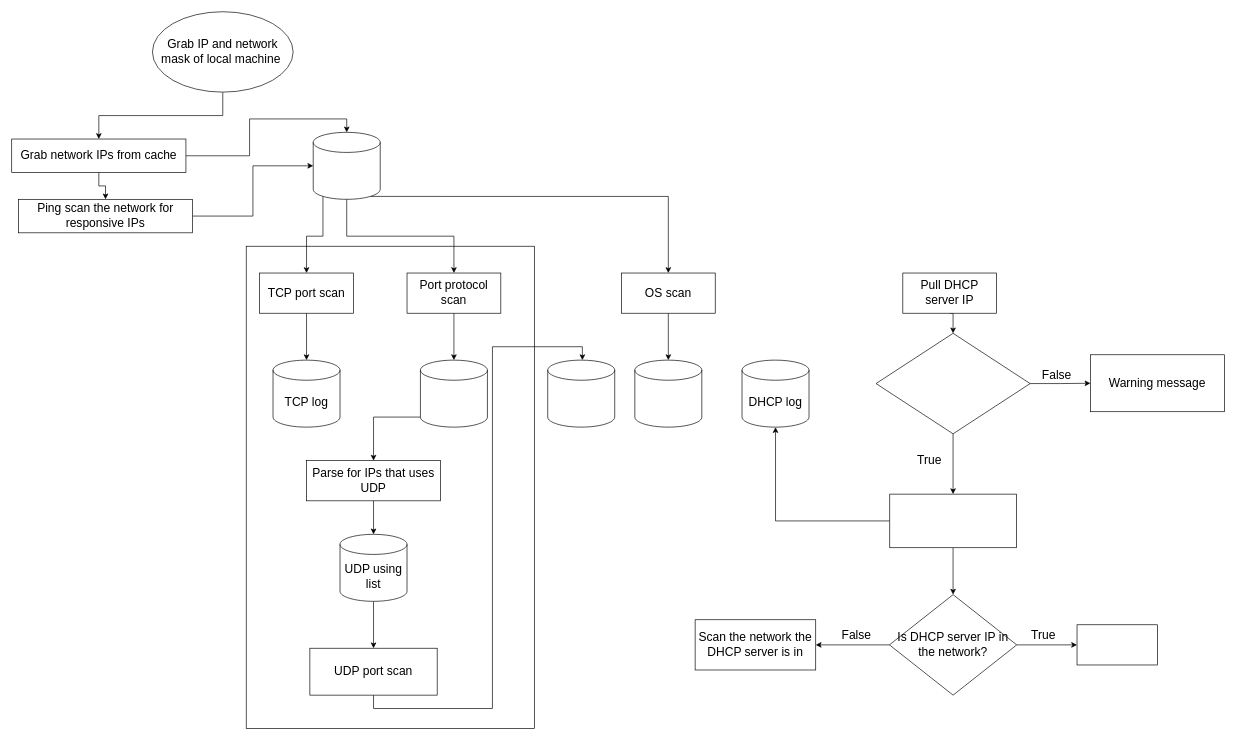
Some shapes in this 1236 by 740 pixel diagram are drawn without their labels. Here are the shapes that lost their labels. From the top down, the centre of each, then its label:
point 346,165: Working IP list
point 453,393: PP log
point 581,393: UDP log
point 668,393: OS log
point 952,383: Does the network have DHCP server?
point 952,520: Scan the DHCP server for basic info
point 1116,644: Do nothing
